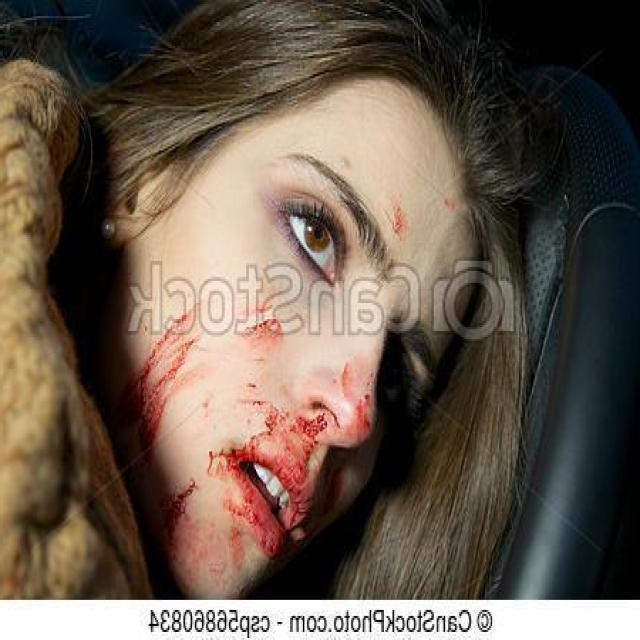flood: (104, 274, 392, 584)
